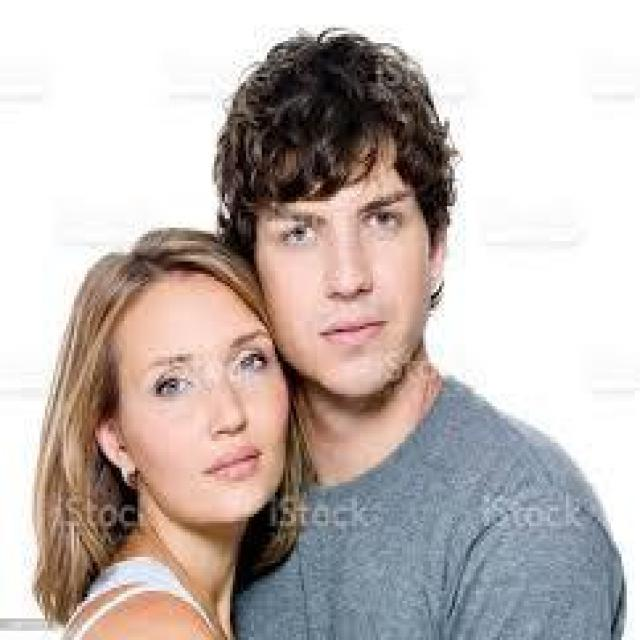person: (190, 28, 635, 634), (37, 218, 312, 637)
